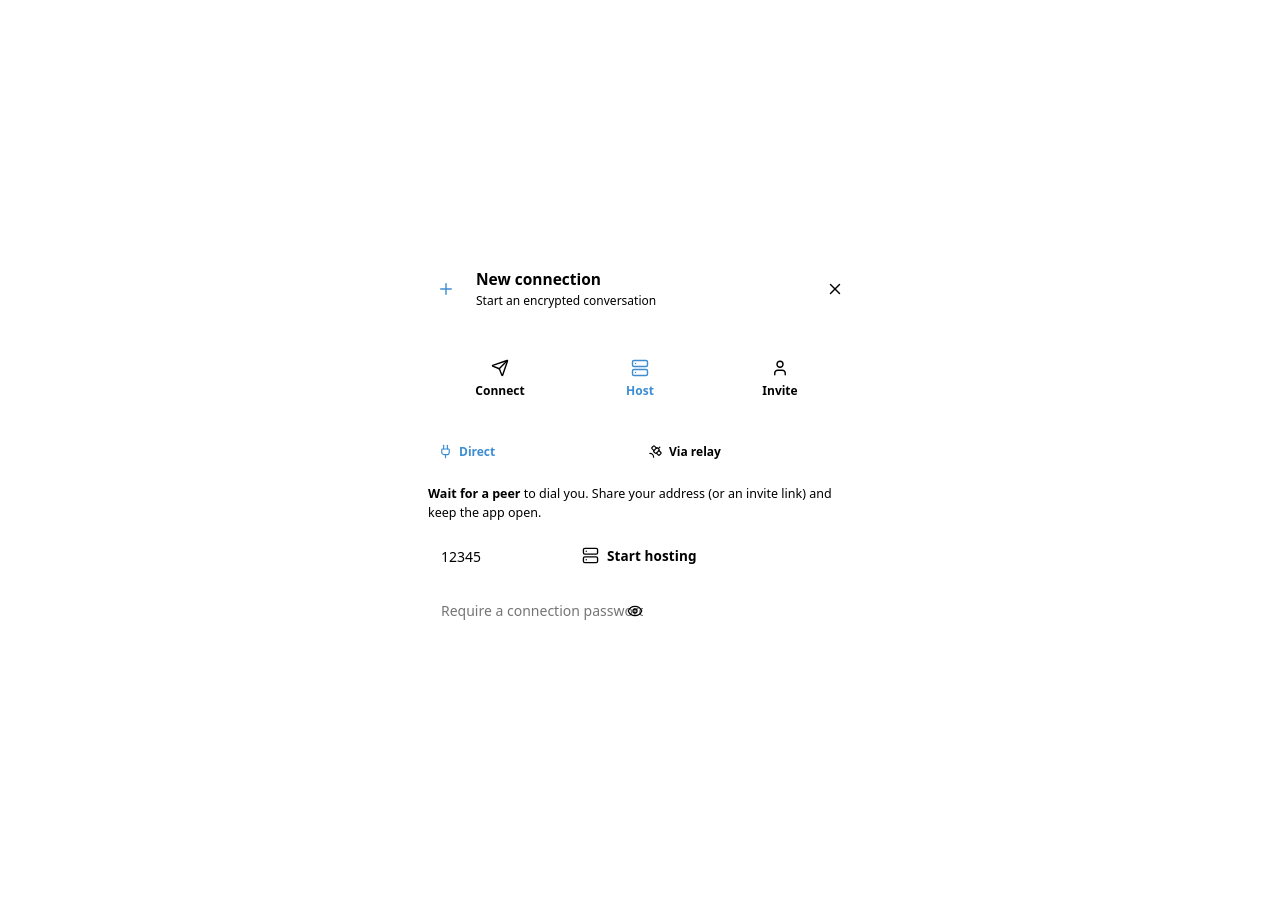
it: Creator — hosting › starts hosting and shows the address to share
What coordinates should you click on to do the following:
click the button "Start hosting"
I would click on:
 (639, 555)
Its box is x1=566 y1=536 x2=713 y2=574.
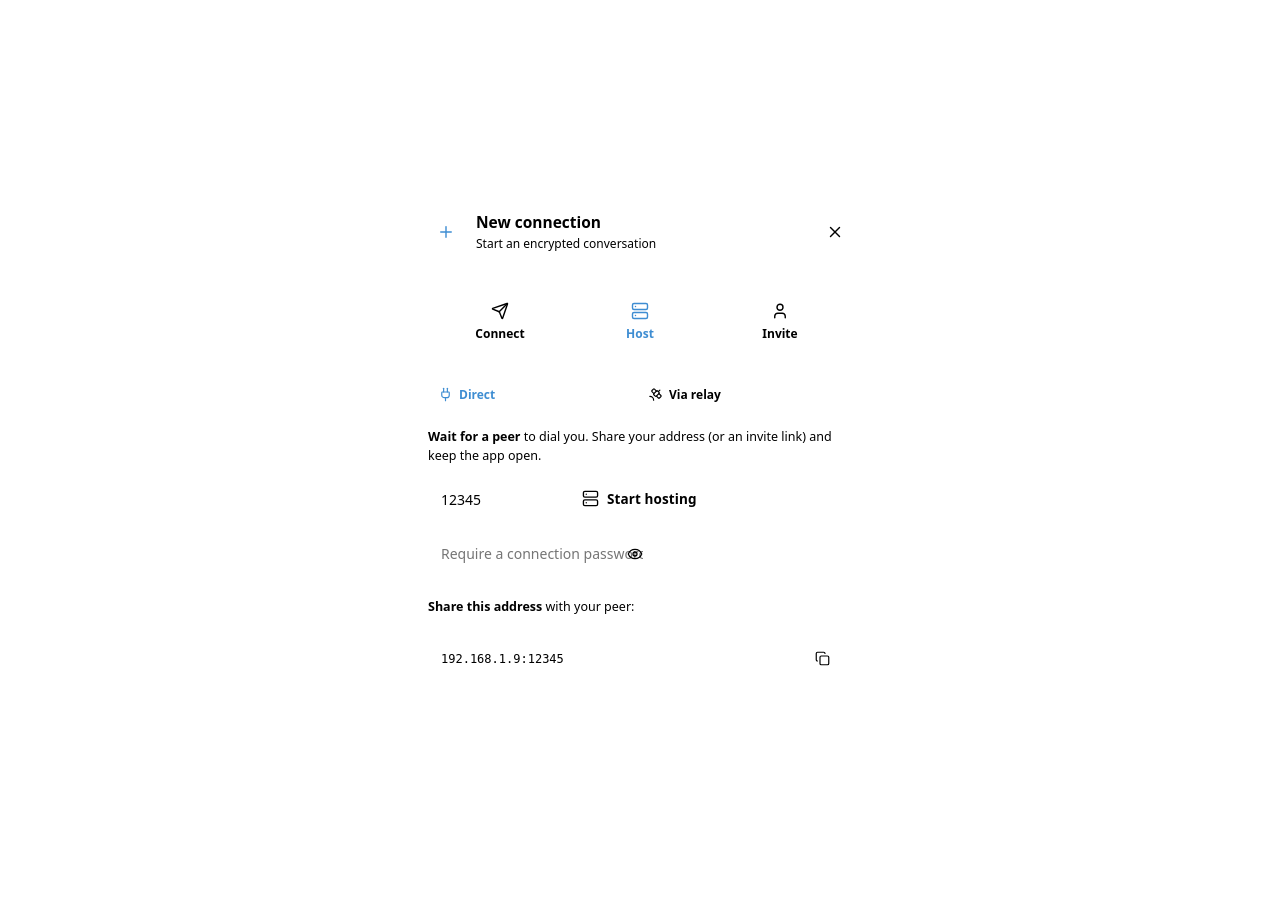
expect the text "192.168.1.9:12345" is shown: met, box x1=441 y1=652 x2=564 y2=666
